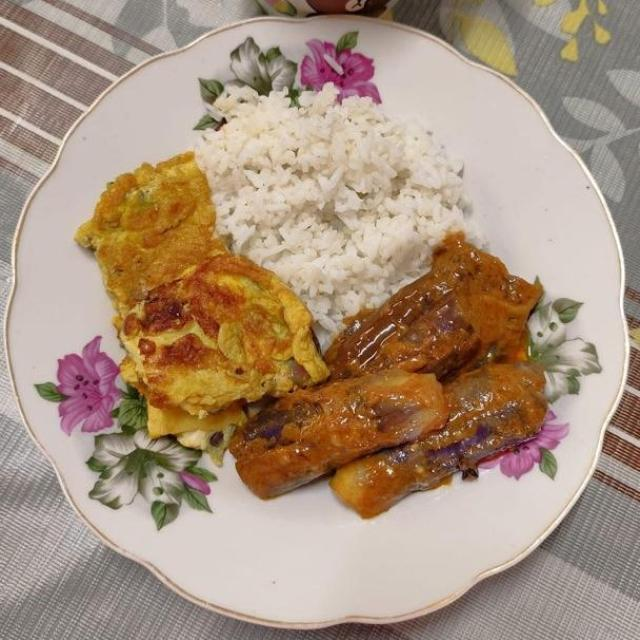Egg: (78, 159, 329, 461)
Plate: (13, 18, 626, 627)
Rice: (200, 89, 468, 321)
Vegetables: (233, 234, 550, 523)
